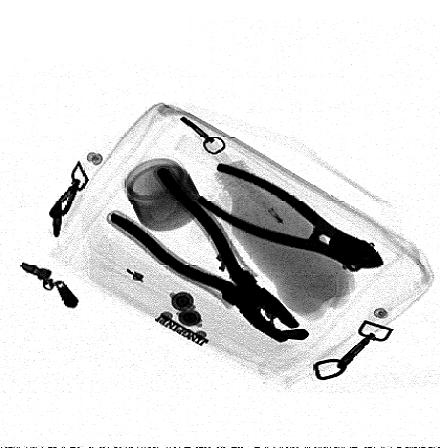Pliers: (105, 164, 313, 347), (192, 162, 390, 272)
